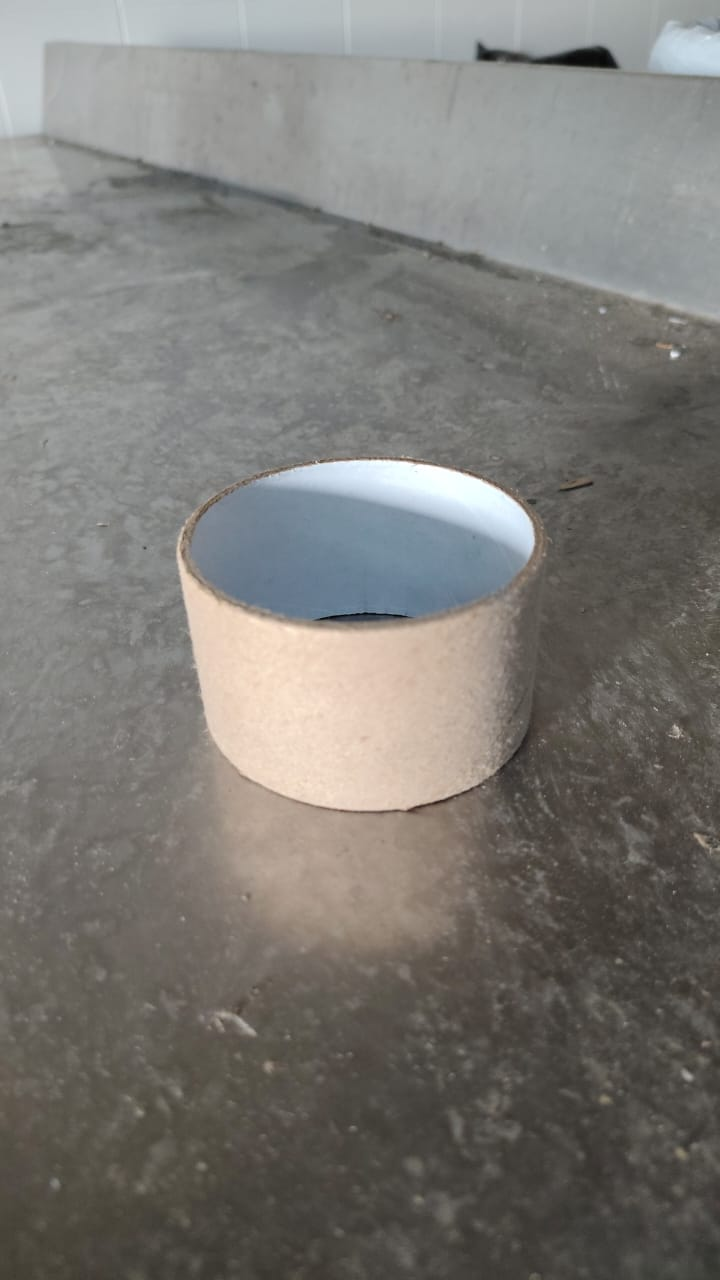Carton: (175, 457, 544, 809)
